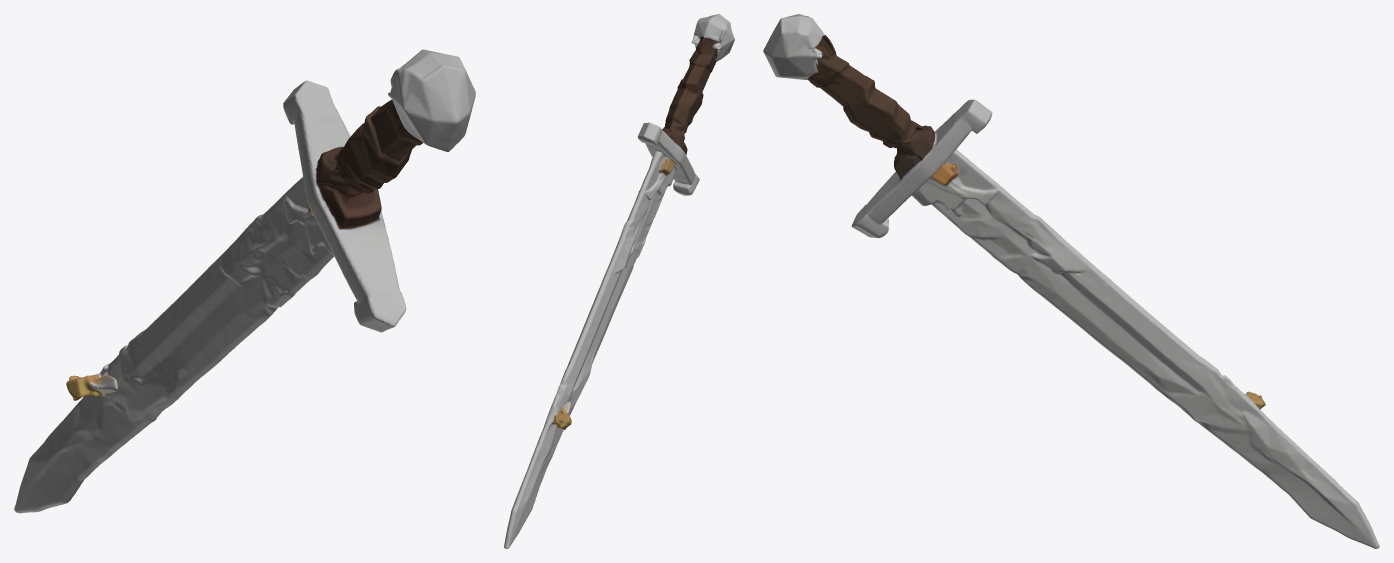
Rendered from gear_sword.glb.
The picture shows the model from 3 angles, left to right: view 1: azimuth 30°, elevation 25°; view 2: azimuth 150°, elevation 25°; view 3: azimuth 270°, elevation 25°; orthographic projection. The views are drawn at different scales.
Visible parts, largest first — view 1: tripo_node_f8a79079-99a5-48d5-9b3c-bc9d2260430e; view 2: tripo_node_f8a79079-99a5-48d5-9b3c-bc9d2260430e; view 3: tripo_node_f8a79079-99a5-48d5-9b3c-bc9d2260430e.
Boxes of the visible parts, x1,y1,x2,y2 form: tripo_node_f8a79079-99a5-48d5-9b3c-bc9d2260430e: (14,49,475,513); tripo_node_f8a79079-99a5-48d5-9b3c-bc9d2260430e: (504,14,734,548); tripo_node_f8a79079-99a5-48d5-9b3c-bc9d2260430e: (763,14,1379,548).
Size of the model in its own units: 0.0976 by 0.9526 by 1.
1 material, 1 textured.
